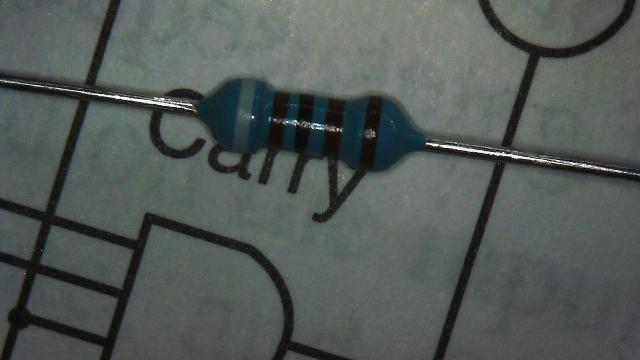black: (294, 94, 314, 154)
brown: (360, 96, 383, 170), (322, 99, 344, 158), (268, 92, 290, 149)
resistor: (196, 63, 424, 185)
white: (233, 78, 260, 150)
